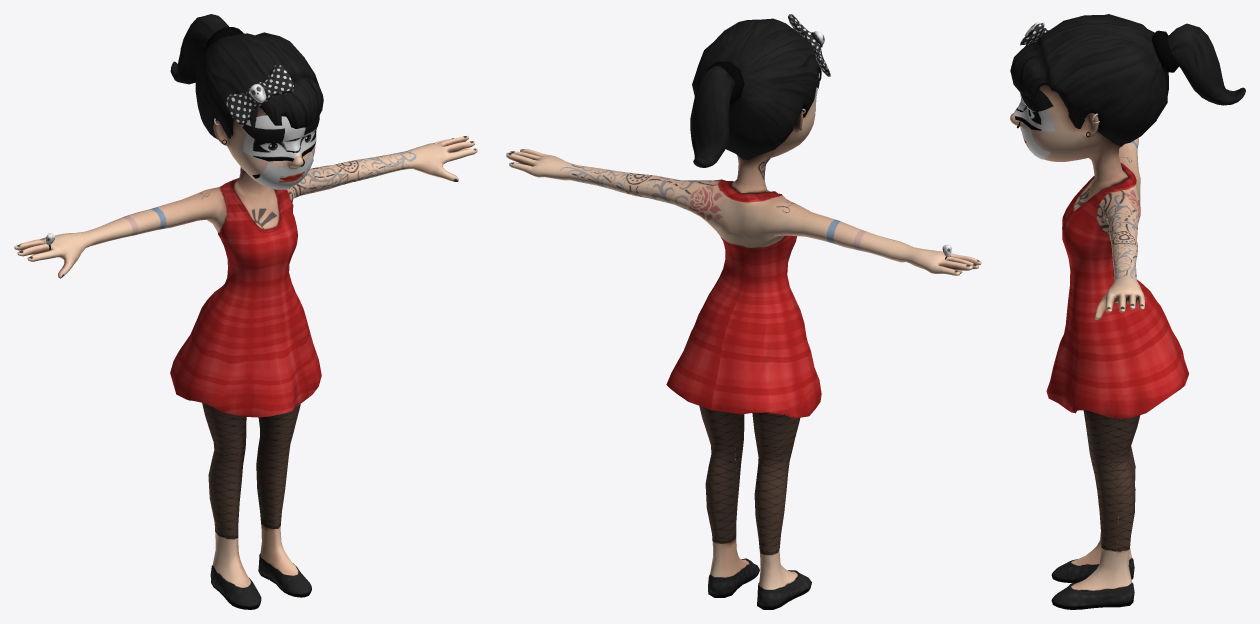
Rendered from girl_dancing.glb.
The picture shows the model from 3 angles, left to right: view 1: azimuth 30°, elevation 25°; view 2: azimuth 150°, elevation 25°; view 3: azimuth 270°, elevation 25°; orthographic projection. The views are drawn at different scales.
Parts seen in each view (by area): view 1: Girl_Body_Geo, Girl_Eyes_Geo, Girl_Brows_Geo, Girl_Mouth_Geo; view 2: Girl_Body_Geo; view 3: Girl_Body_Geo, Girl_Eyes_Geo, Girl_Brows_Geo, Girl_Mouth_Geo.
Boxes of the visible parts, left/top/right/bottom form: Girl_Body_Geo: left=14, top=14, right=477, bottom=609; Girl_Eyes_Geo: left=243, top=129, right=316, bottom=161; Girl_Brows_Geo: left=242, top=115, right=319, bottom=143; Girl_Mouth_Geo: left=252, top=152, right=313, bottom=189; Girl_Body_Geo: left=506, top=14, right=981, bottom=609; Girl_Body_Geo: left=1010, top=14, right=1245, bottom=609; Girl_Eyes_Geo: left=1014, top=98, right=1054, bottom=131; Girl_Brows_Geo: left=1020, top=89, right=1053, bottom=111; Girl_Mouth_Geo: left=1020, top=127, right=1050, bottom=159.
Size of the model in its own units: 1.57 by 1.81 by 0.6777.
4 materials, 4 textured.
